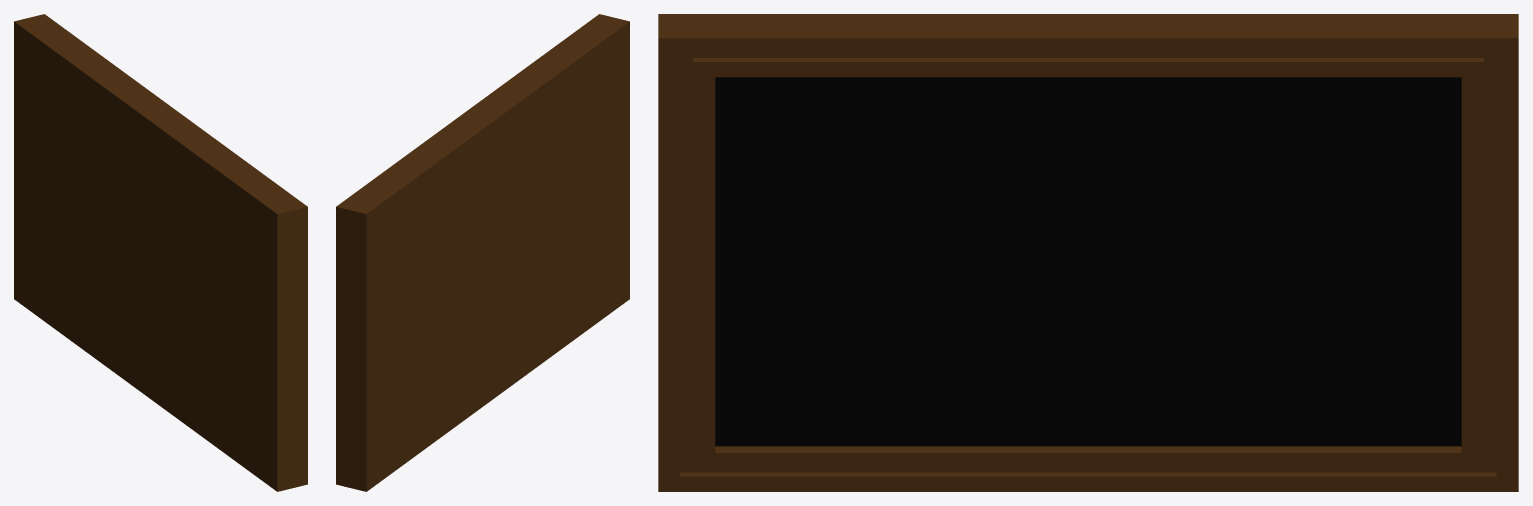
Rendered from Pigora 1.fbx.
3 views of the same model, side by side, from view 1: azimuth 30°, elevation 25°; view 2: azimuth 150°, elevation 25°; view 3: azimuth 270°, elevation 25° (orthographic). The views are drawn at different scales.
Visible parts, largest first — view 1: Plane.002; view 2: Plane.002; view 3: Plane.002.
Part boxes in pixels (bbox=[...]): Plane.002: bbox=[14, 14, 307, 491]; Plane.002: bbox=[336, 14, 629, 491]; Plane.002: bbox=[658, 14, 1518, 491].
Size of the model in its own units: 90.85 by 791 by 1359.
